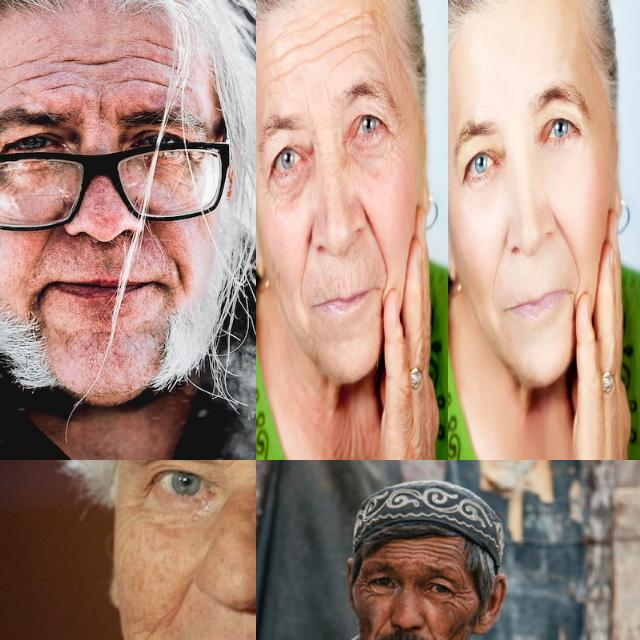bunny_line: (342, 153, 356, 179)
chin: (303, 319, 318, 361)
crows_feet: (123, 488, 149, 520), (386, 120, 407, 155), (450, 583, 472, 605), (356, 574, 370, 594)
forehead: (88, 51, 180, 93), (8, 55, 70, 91), (335, 12, 374, 58), (264, 29, 297, 82), (302, 12, 328, 64), (436, 538, 456, 566), (411, 540, 431, 562), (386, 540, 406, 560)
frown_line: (301, 85, 313, 125), (92, 92, 108, 120), (322, 75, 332, 104), (224, 460, 246, 473)
gummy_smile: (166, 576, 194, 624), (365, 211, 386, 270), (556, 214, 580, 265), (489, 235, 507, 298), (300, 224, 312, 290), (36, 230, 58, 264), (372, 612, 390, 638), (422, 615, 438, 640)
sad_smile: (170, 254, 190, 302)
